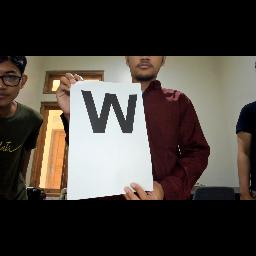w: (77, 86, 149, 138)
